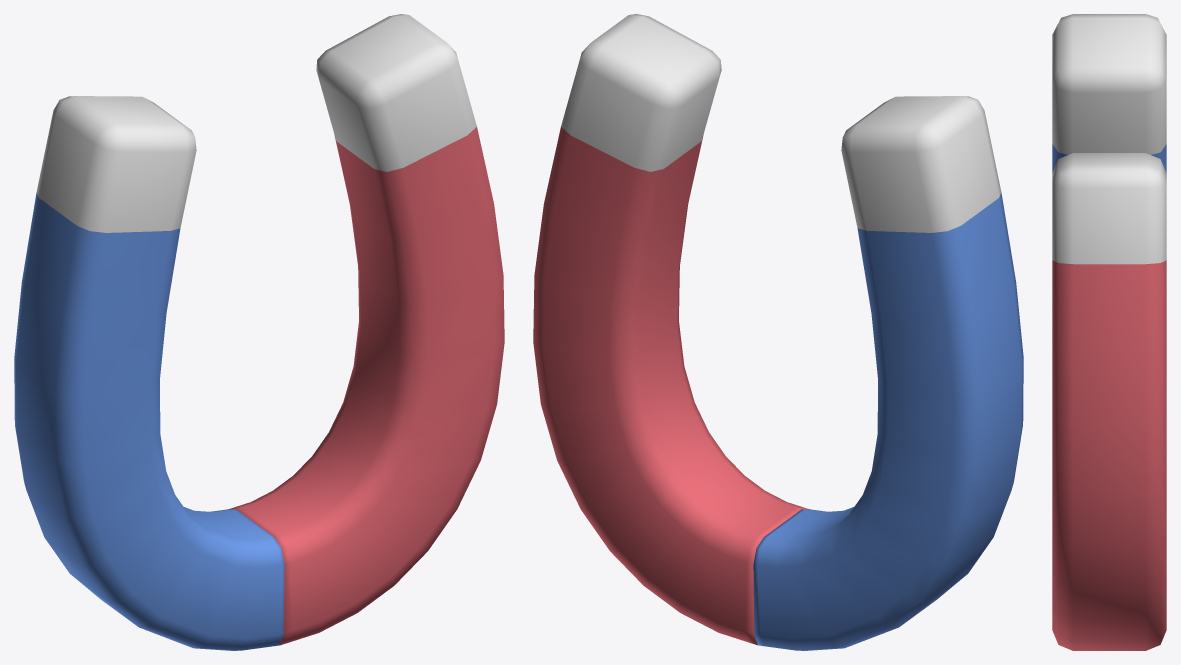
File: SM_Magnet_01b.fbx
3 views of the same model, side by side, from view 1: azimuth 30°, elevation 25°; view 2: azimuth 150°, elevation 25°; view 3: azimuth 270°, elevation 25° (orthographic). The views are drawn at different scales.
Visible parts, largest first — view 1: Magnet_01, Magnet_02; view 2: Magnet_01, Magnet_02; view 3: Magnet_01, Magnet_02.
Boxes of the visible parts, x1,y1,x2,y2 form: Magnet_01: (229,14,504,645); Magnet_02: (14,96,284,650); Magnet_01: (533,14,808,645); Magnet_02: (753,96,1023,650); Magnet_01: (1052,153,1166,650); Magnet_02: (1052,14,1166,172).
Size of the model in its own units: 27 by 32.35 by 6.23.
